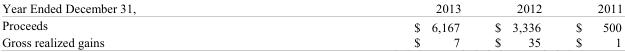table: (1, 0, 622, 48)
table column: (1, 0, 274, 48), (274, 0, 477, 48), (477, 0, 558, 48), (558, 0, 622, 48)
table column header: (1, 0, 622, 16)
table row: (1, 16, 622, 34), (1, 0, 622, 16), (1, 34, 622, 48)
